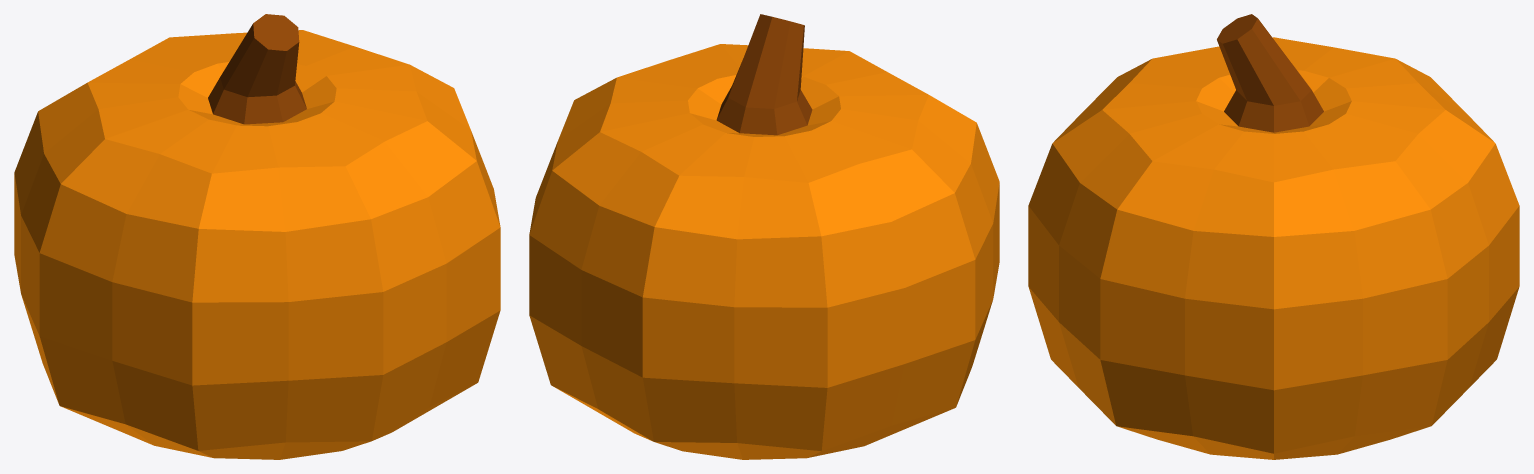
The model's file is pumpkin01.gltf.
The picture shows the model from 3 angles, left to right: view 1: azimuth 30°, elevation 25°; view 2: azimuth 150°, elevation 25°; view 3: azimuth 270°, elevation 25°; orthographic projection. The views are drawn at different scales.
Visible parts, largest first — view 1: Cylinder; view 2: Cylinder; view 3: Cylinder.
Part boxes in pixels (x1,y1,x2,y2): Cylinder: [14, 14, 500, 459]; Cylinder: [529, 14, 999, 459]; Cylinder: [1028, 14, 1519, 459].
Size of the model in its own units: 0.2047 by 0.1761 by 0.2047.
Materials: 1 (1 with a texture image).
